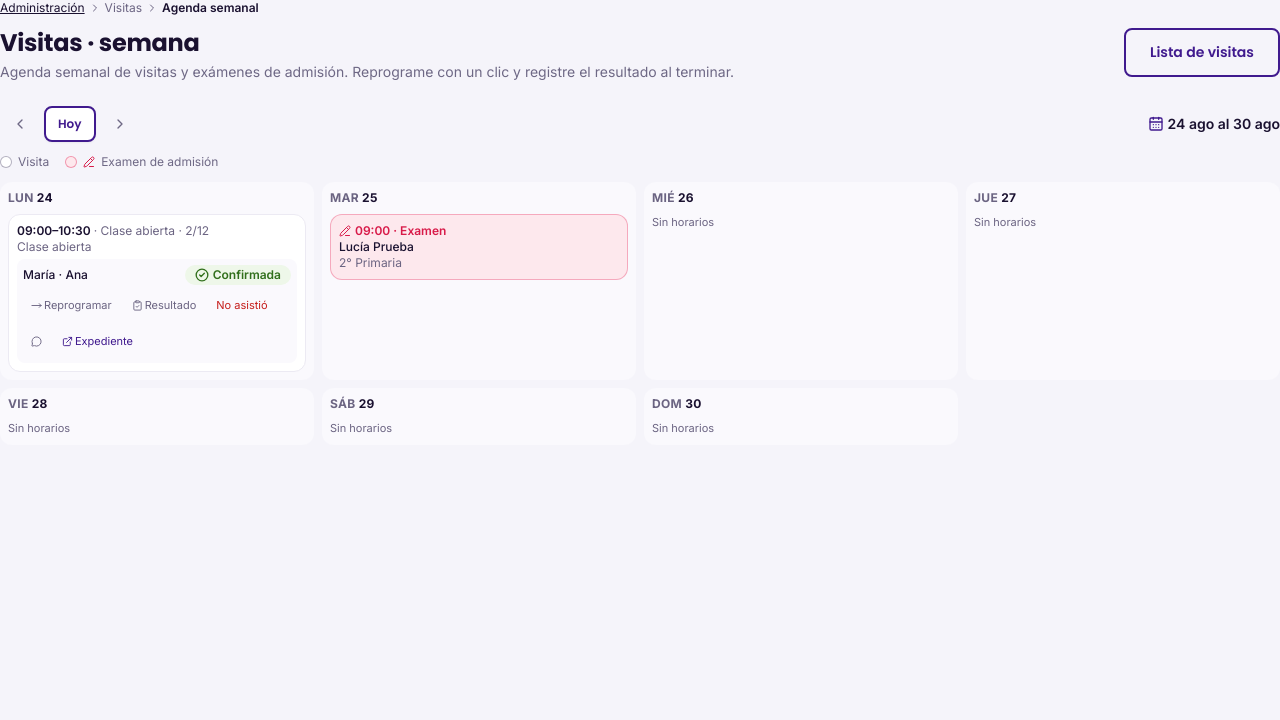
Test: AdminVisitsWeek › an interested family with no case is offered «Pasar a Admisiones» right after the result (owner 2026-11-26)
Click the button "Resultado" at [164, 305], box [124,289,204,321]
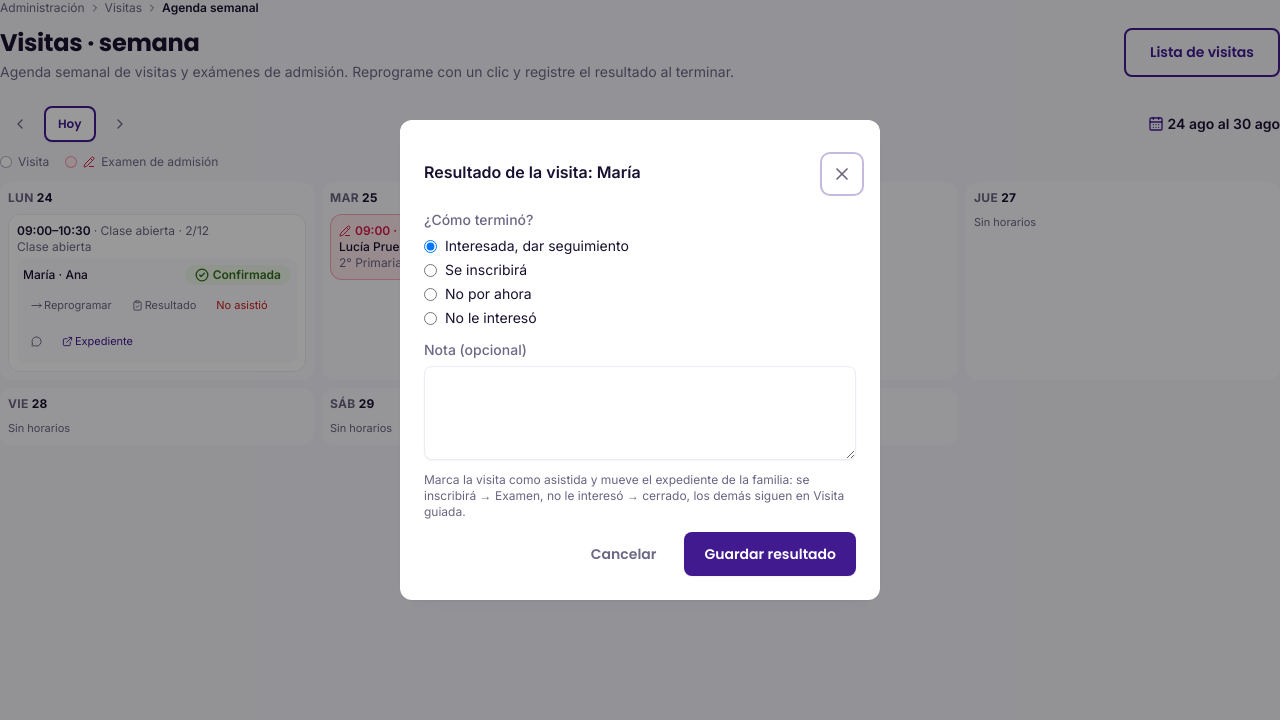
Click the button "Guardar resultado" at [770, 554], box [684,532,856,576]
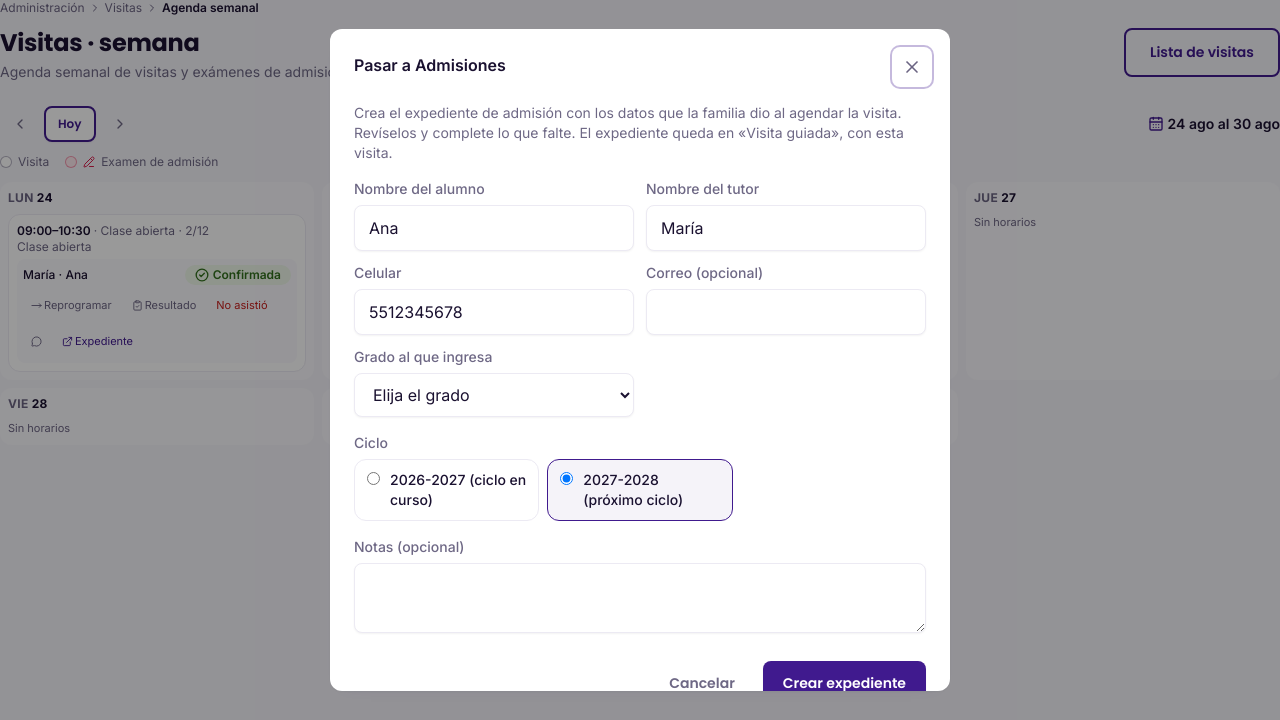
Result: the field labelled "Nombre del alumno" holds "Ana" at [354,205,634,251]
